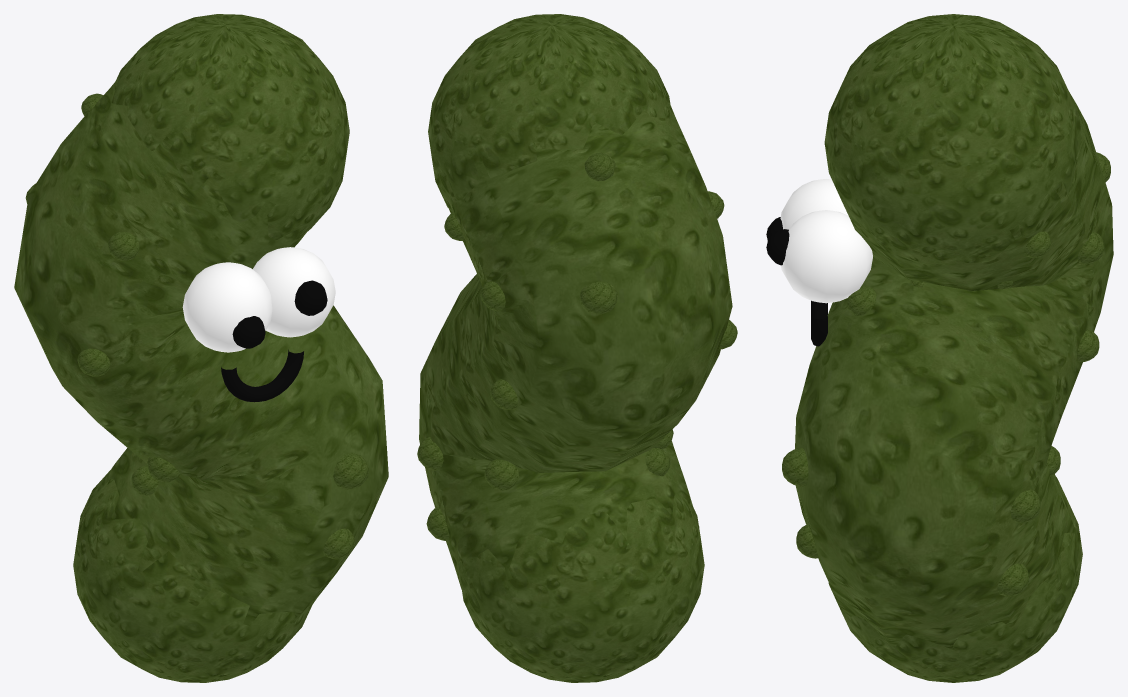
File: lavahpickle.glb
The picture shows the model from 3 angles, left to right: view 1: azimuth 30°, elevation 25°; view 2: azimuth 150°, elevation 25°; view 3: azimuth 270°, elevation 25°; orthographic projection. The views are drawn at different scales.
Visible parts, largest first — view 1: pickle_Figure; view 2: pickle_Figure; view 3: pickle_Figure.
Part boxes in pixels (bbox=[...]): pickle_Figure: bbox=[14, 14, 388, 682]; pickle_Figure: bbox=[417, 14, 737, 682]; pickle_Figure: bbox=[766, 14, 1113, 682].
Bounding box in the file's own units: 0.2592 × 0.5099 × 0.2431.
Materials: 3 (1 with a texture image).
